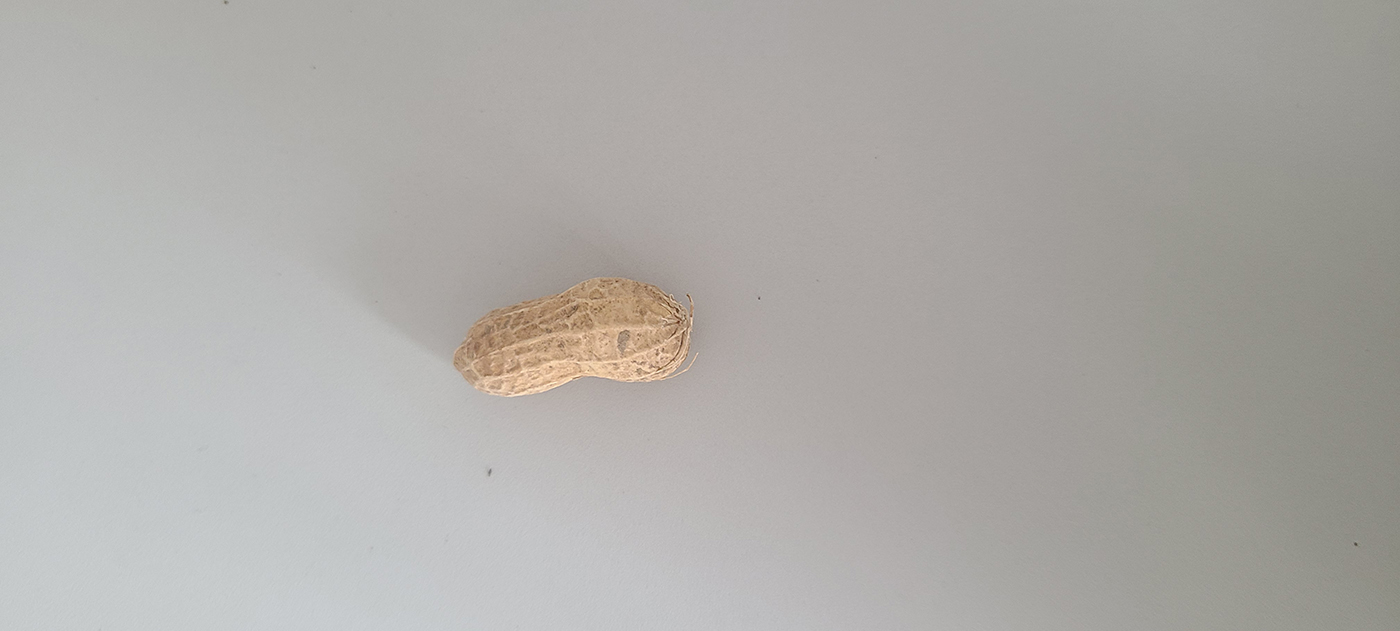h: (449, 274, 691, 397)
